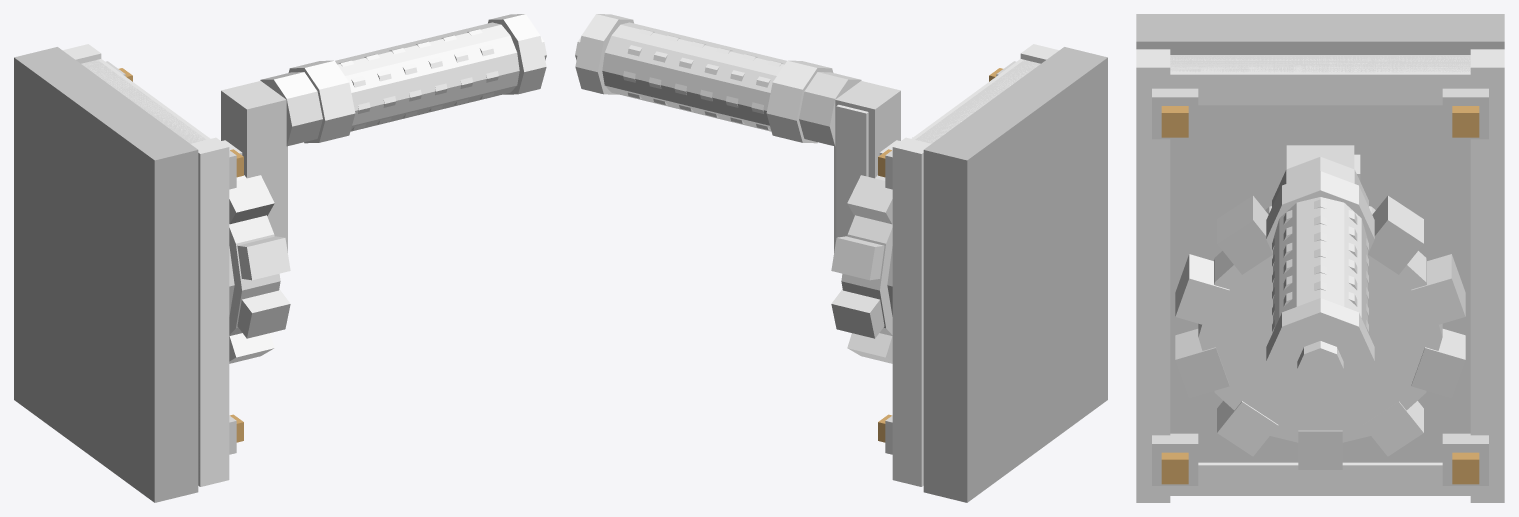
File: hand_crank.gltf
3 renders of one model, left to right at view 1: azimuth 30°, elevation 25°; view 2: azimuth 150°, elevation 25°; view 3: azimuth 270°, elevation 25°, orthographic. The views are drawn at different scales.
Size of the model in its own units: 0.707 by 0.51 by 0.38.
